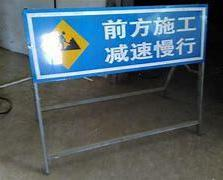sign: (25, 4, 208, 81)
